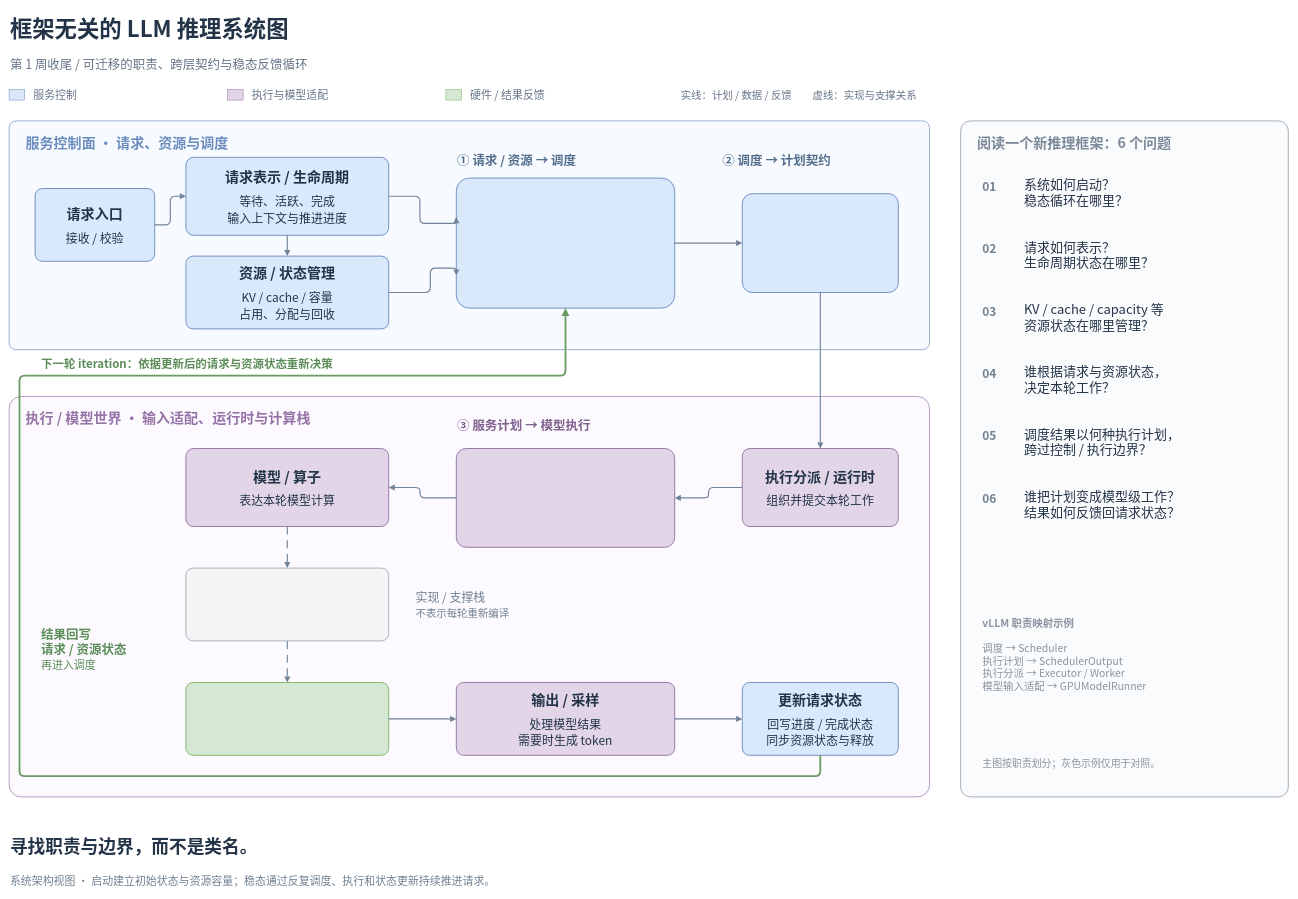
Image size: 1298x899. Some labels were removed from this diagram. Here are the shapes that lost their labels. From the top down, the box of each, then its label:
(456, 177, 675, 308): 调度 / 组批 本轮哪些请求推进？ 各推进多少？ 依据：请求状态 / token·计算预算 KV·cache 容量 / 策略
(742, 193, 899, 293): 本轮执行计划 请求集合 / token 配额 状态与资源引用 Execution Plan / 跨层契约
(456, 448, 675, 548): 模型输入适配 请求级工作 → 模型输入 batch / tensor / position KV-attention 元数据
(185, 567, 389, 641): 后端 / 编译器 / 库 计算图转换 / 库调用 可复用已有编译产物
(185, 682, 389, 756): 计算内核 / 硬件 执行实际计算
